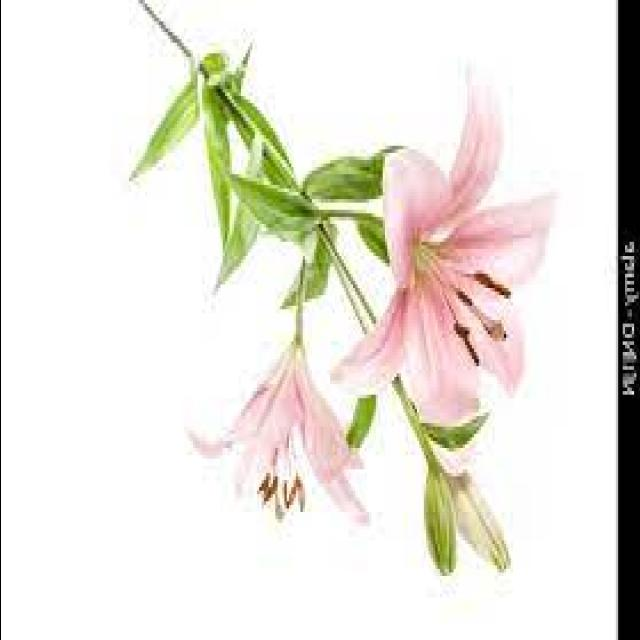lily: (339, 51, 555, 474)
